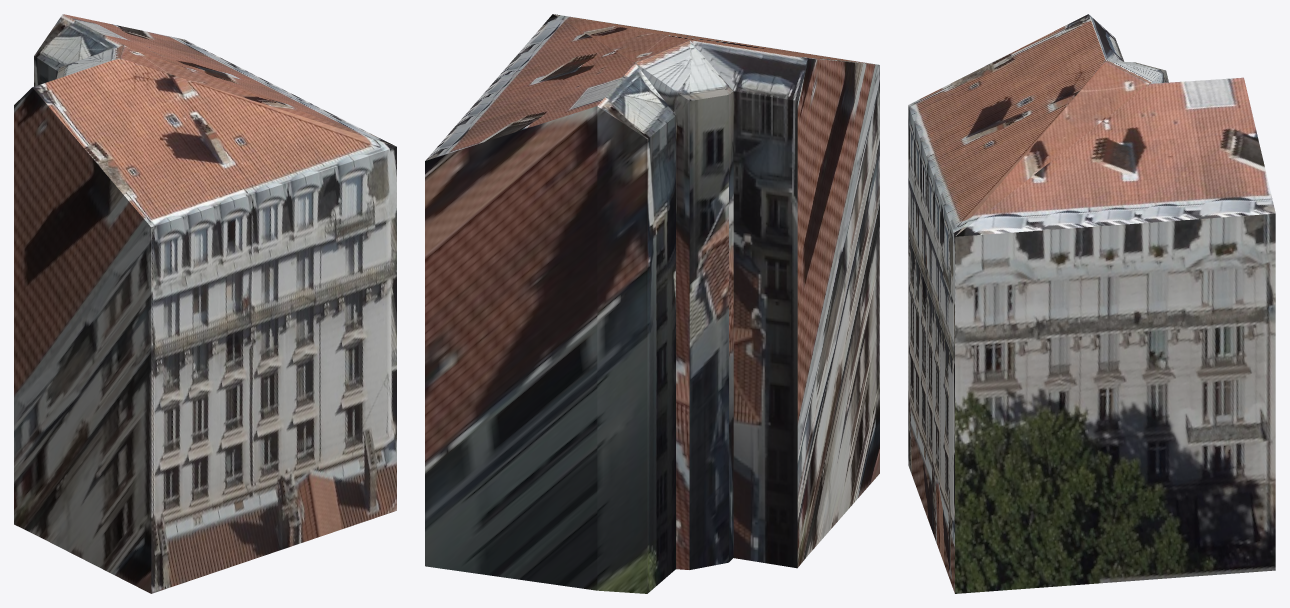
3 renders of one model, left to right at view 1: azimuth 30°, elevation 25°; view 2: azimuth 150°, elevation 25°; view 3: azimuth 270°, elevation 25°, orthographic. The views are drawn at different scales.
Visible parts, largest first — view 1: Z_UP; view 2: Z_UP; view 3: Z_UP.
Part boxes in pixels (bbox=[...]): Z_UP: bbox=[14, 14, 396, 593]; Z_UP: bbox=[425, 14, 879, 593]; Z_UP: bbox=[908, 14, 1275, 593].
Size of the model in its own units: 20.28 by 28.69 by 21.83.
2 materials, 1 textured.
